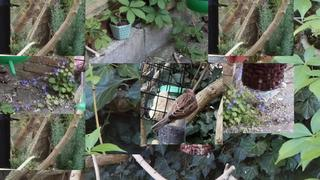sparrow: (151, 87, 199, 134)
